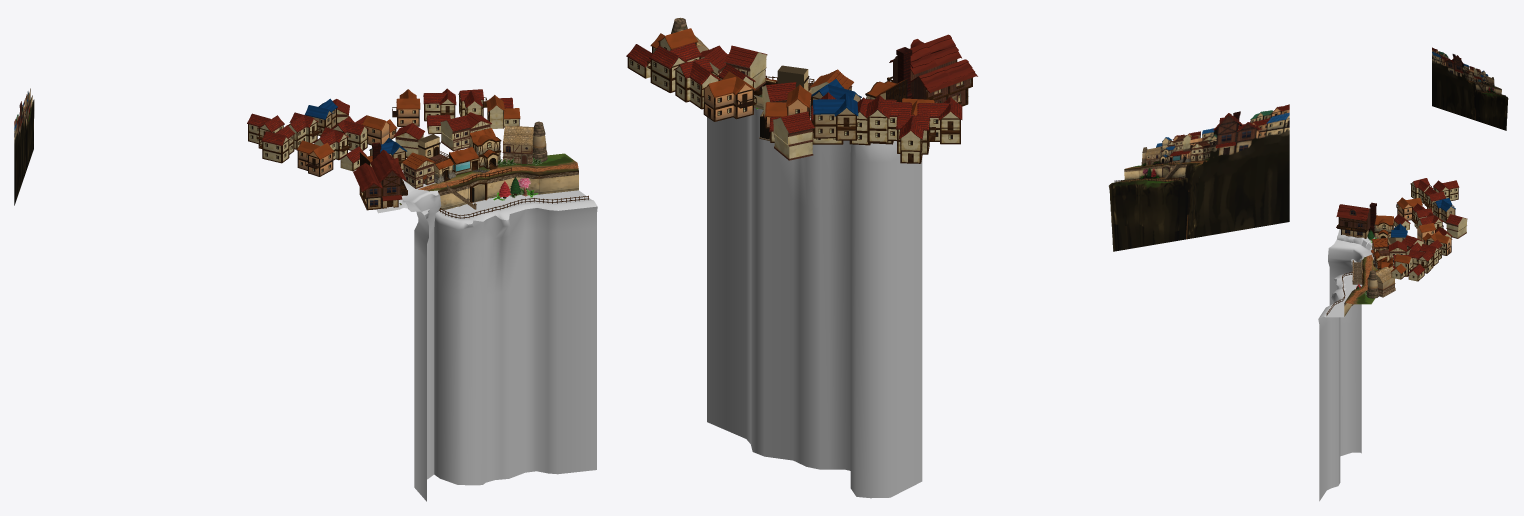
File: area1.fbx
The picture shows the model from 3 angles, left to right: view 1: azimuth 30°, elevation 25°; view 2: azimuth 150°, elevation 25°; view 3: azimuth 270°, elevation 25°; orthographic projection. The views are drawn at different scales.
Visible parts, largest first — view 1: Cube.010, Cube.011, Cube.002, Cube.008, Cube.007, Cube.009, Cube.003, Cube.005, Cube.013, Cube.021, Cube.006, Cube.012 (+1 smaller); view 2: Cube.010, Cube.021, Cube.003, Cube.002, Cube.005, Cube.013, Cube.006, Cube.008, Cube.009, Cube.004, Cube.007; view 3: Cube.010, Cube.021, Cube.009, Cube.002, Cube.006, Cube.003, Cube.011, Cube.013, Cube.007, Cube.004, Cube.005, Cube.008.
Part boxes in pixels (x1,y1,x2,y2): Cube.010: [376, 179, 597, 501]; Cube.011: [399, 153, 578, 209]; Cube.002: [247, 113, 340, 176]; Cube.008: [394, 115, 479, 183]; Cube.007: [466, 105, 547, 169]; Cube.009: [341, 138, 435, 210]; Cube.003: [293, 98, 373, 160]; Cube.005: [392, 88, 460, 146]; Cube.013: [353, 142, 448, 206]; Cube.021: [14, 88, 34, 205]; Cube.006: [452, 89, 520, 158]; Cube.012: [439, 167, 588, 218]; Cube.010: [707, 96, 968, 498]; Cube.021: [1108, 104, 1289, 251]; Cube.003: [780, 92, 892, 160]; Cube.002: [877, 97, 962, 163]; Cube.005: [667, 57, 757, 121]; Cube.013: [808, 34, 977, 104]; Cube.006: [626, 28, 711, 92]; Cube.008: [720, 45, 814, 119]; Cube.009: [810, 59, 972, 120]; Cube.004: [765, 84, 811, 160]; Cube.007: [671, 17, 728, 77]; Cube.010: [1318, 229, 1374, 501]; Cube.021: [1432, 47, 1508, 130]; Cube.009: [1337, 209, 1411, 258]; Cube.002: [1396, 178, 1459, 220]; Cube.006: [1383, 248, 1433, 293]; Cube.003: [1411, 191, 1466, 232]; Cube.011: [1344, 254, 1377, 316]; Cube.013: [1336, 202, 1389, 255]; Cube.007: [1367, 255, 1408, 298]; Cube.004: [1416, 216, 1467, 244]; Cube.005: [1406, 230, 1452, 267]; Cube.008: [1373, 235, 1423, 270].
Size of the model in its own units: 9451 by 8180 by 4459.
